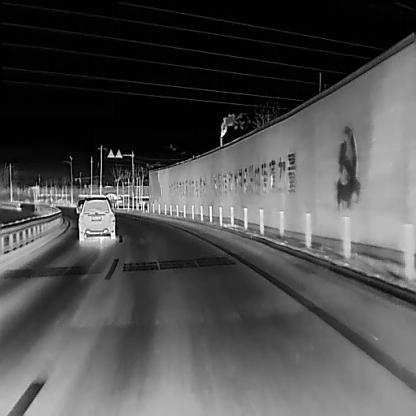car: (75, 194, 114, 242)
